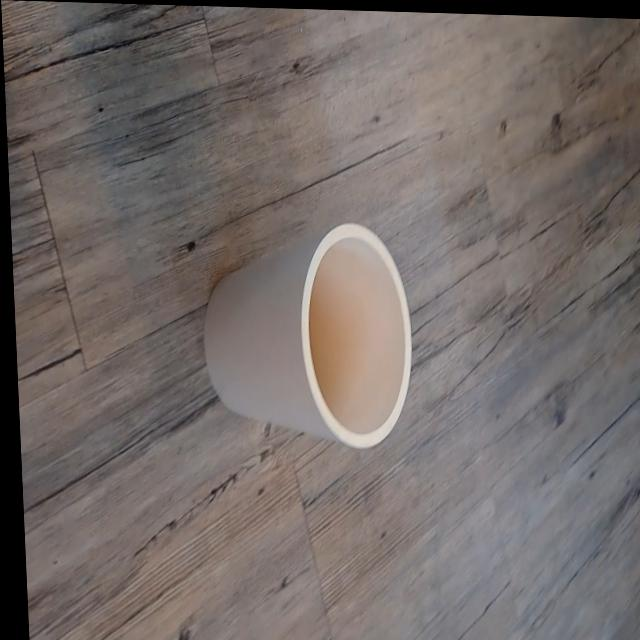CORAL: (176, 166, 446, 486)
